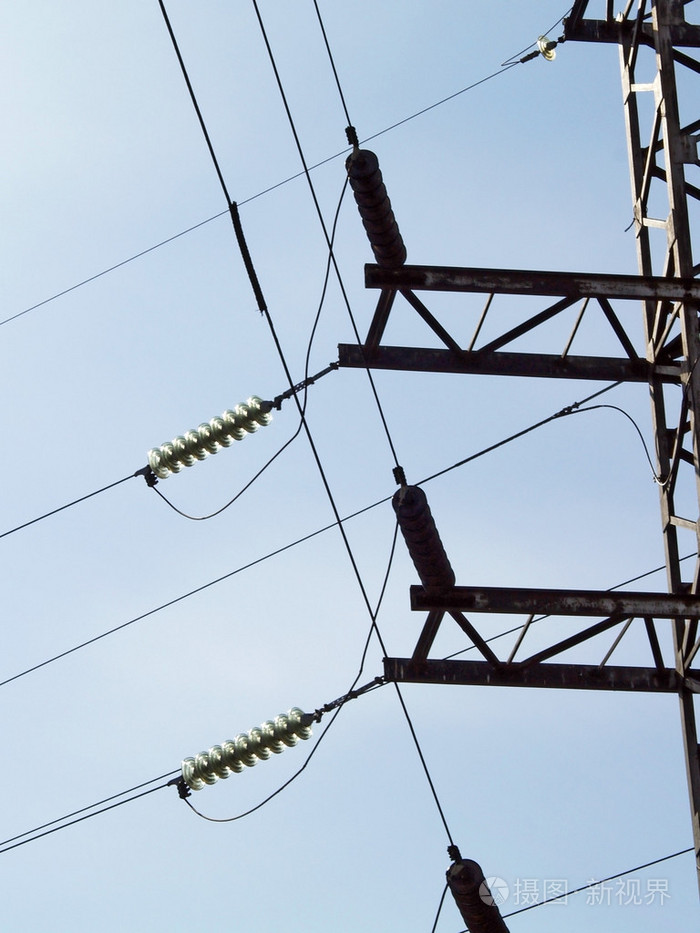insulator: (146, 396, 272, 481), (184, 706, 314, 788)
